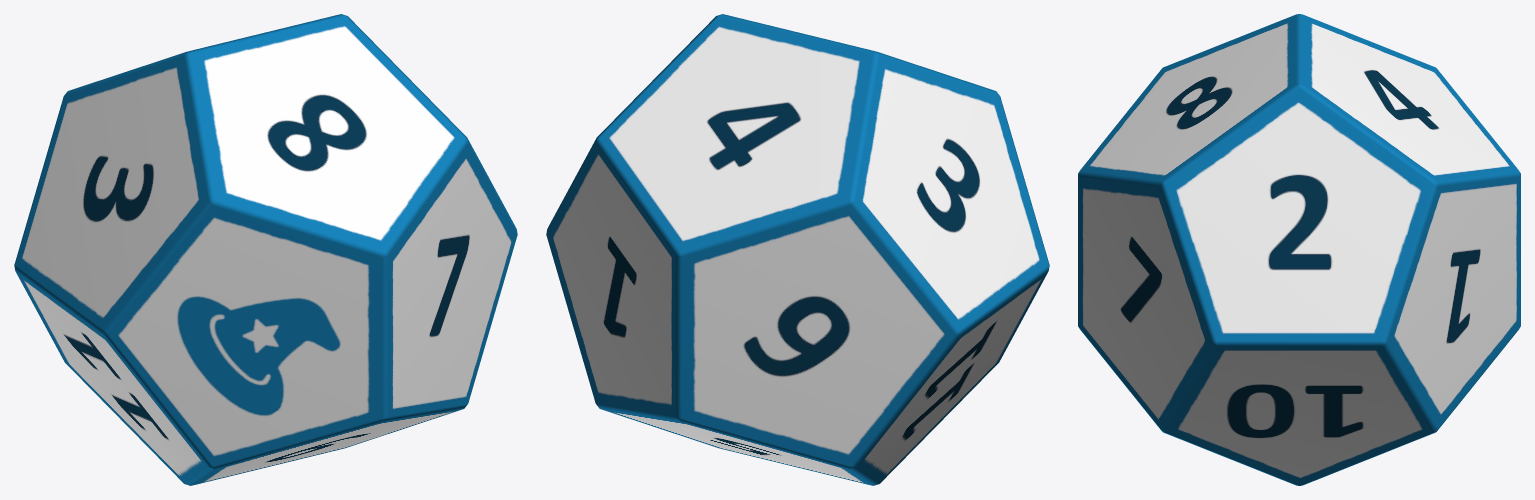
The picture shows the model from 3 angles, left to right: view 1: azimuth 30°, elevation 25°; view 2: azimuth 150°, elevation 25°; view 3: azimuth 270°, elevation 25°; orthographic projection. The views are drawn at different scales.
Visible parts, largest first — view 1: Mesh_0; view 2: Mesh_0; view 3: Mesh_0.
Boxes of the visible parts, x1,y1,x2,y2 form: Mesh_0: (14, 14, 517, 485); Mesh_0: (546, 14, 1049, 485); Mesh_0: (1078, 14, 1520, 485).
Bounding box in the file's own units: 167 × 167 × 167.
1 material, 1 textured.
